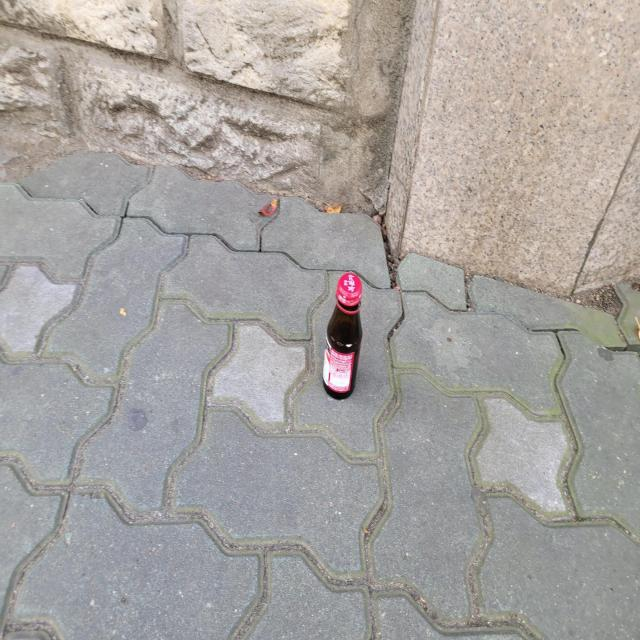glass: (323, 272, 363, 399)
